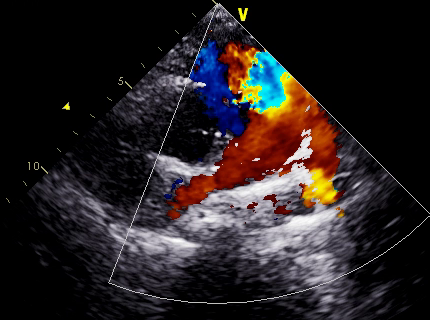PR: (241, 50, 316, 120)
